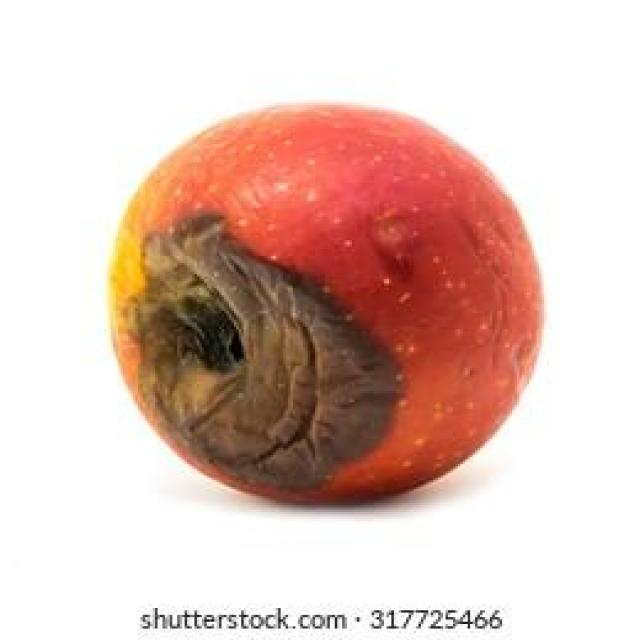Rotten: (103, 94, 545, 508)
